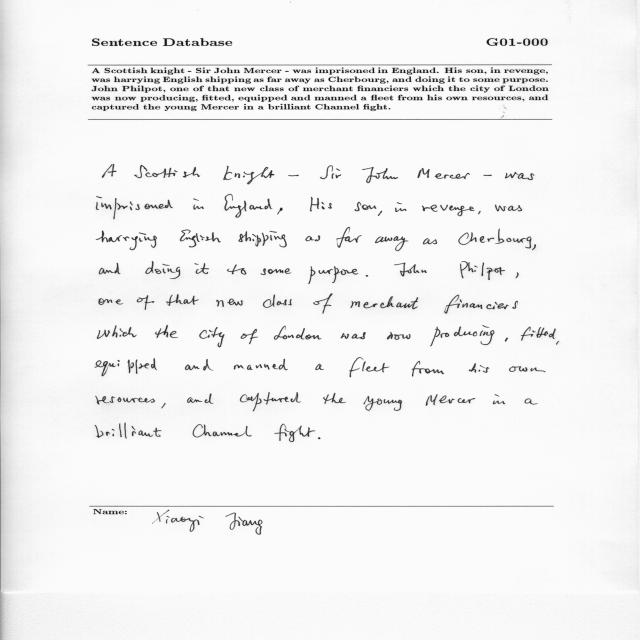word: (96, 196, 173, 219), (458, 229, 532, 249), (444, 295, 518, 314), (430, 326, 495, 347), (96, 231, 157, 251), (240, 393, 301, 412), (225, 194, 273, 218), (95, 359, 157, 377), (95, 423, 161, 439), (223, 166, 274, 185), (309, 266, 359, 284), (351, 296, 419, 309), (134, 165, 200, 178), (460, 261, 505, 280), (193, 424, 252, 438), (349, 358, 390, 378), (238, 231, 287, 247), (180, 230, 221, 248), (274, 424, 315, 442), (274, 326, 321, 340), (146, 261, 181, 279), (234, 359, 288, 370), (426, 394, 475, 406), (417, 168, 470, 179), (422, 205, 475, 216), (362, 167, 398, 183), (364, 396, 402, 411), (336, 227, 362, 248), (98, 325, 137, 339), (199, 327, 225, 348), (375, 236, 408, 251), (412, 361, 445, 376), (521, 327, 556, 341), (96, 396, 155, 404), (394, 263, 427, 277), (263, 294, 292, 308), (313, 294, 333, 314), (166, 294, 199, 306), (185, 359, 213, 371), (310, 197, 332, 211), (155, 325, 178, 338), (187, 393, 214, 404), (320, 166, 341, 180), (137, 295, 154, 310), (241, 329, 258, 344), (323, 393, 346, 404), (217, 298, 244, 307), (505, 172, 534, 180), (100, 263, 121, 274), (509, 366, 546, 372), (261, 268, 291, 275), (227, 264, 246, 275), (469, 363, 489, 373), (355, 202, 377, 211), (103, 164, 117, 178), (387, 332, 411, 340), (495, 205, 522, 212), (340, 332, 366, 339), (99, 298, 123, 305), (195, 263, 209, 274), (193, 199, 204, 210), (395, 202, 407, 212), (493, 395, 505, 405), (306, 235, 321, 241), (423, 239, 437, 245), (525, 399, 538, 405), (315, 364, 324, 370), (277, 208, 283, 215), (161, 403, 166, 408), (532, 245, 536, 251), (378, 211, 382, 216), (516, 273, 519, 279), (556, 341, 560, 345), (505, 338, 508, 342), (288, 175, 299, 176), (483, 175, 492, 176), (478, 211, 481, 214), (318, 438, 321, 440), (366, 275, 368, 277)
